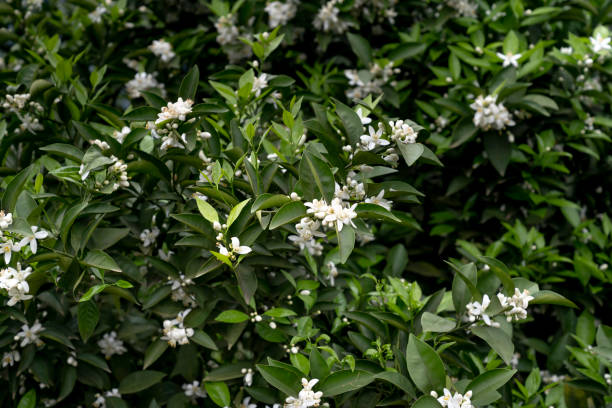flower: (462, 295, 497, 326), (19, 225, 49, 254), (286, 232, 322, 255), (358, 127, 389, 153), (471, 94, 493, 129), (9, 264, 36, 292), (17, 323, 47, 348), (320, 206, 350, 230), (225, 234, 254, 256), (496, 49, 526, 70), (0, 236, 19, 264), (99, 332, 123, 353), (294, 218, 324, 234), (436, 388, 461, 406), (304, 197, 327, 216), (298, 377, 318, 397), (185, 380, 205, 398), (0, 267, 15, 291), (0, 208, 14, 229)
